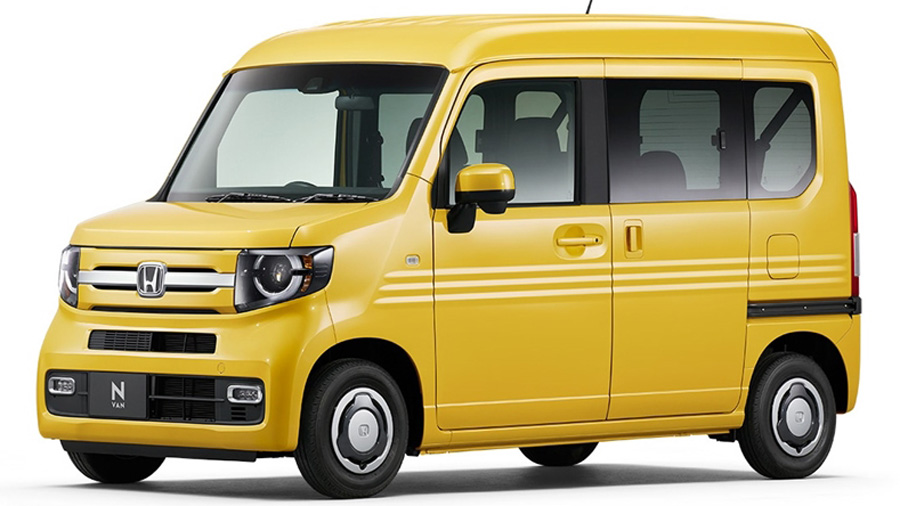van: (36, 8, 861, 495)
